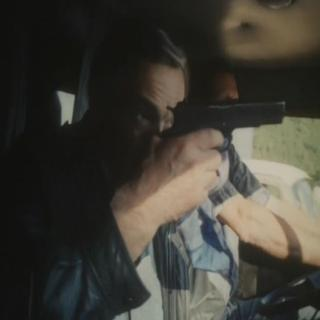gun: (145, 88, 296, 214)
